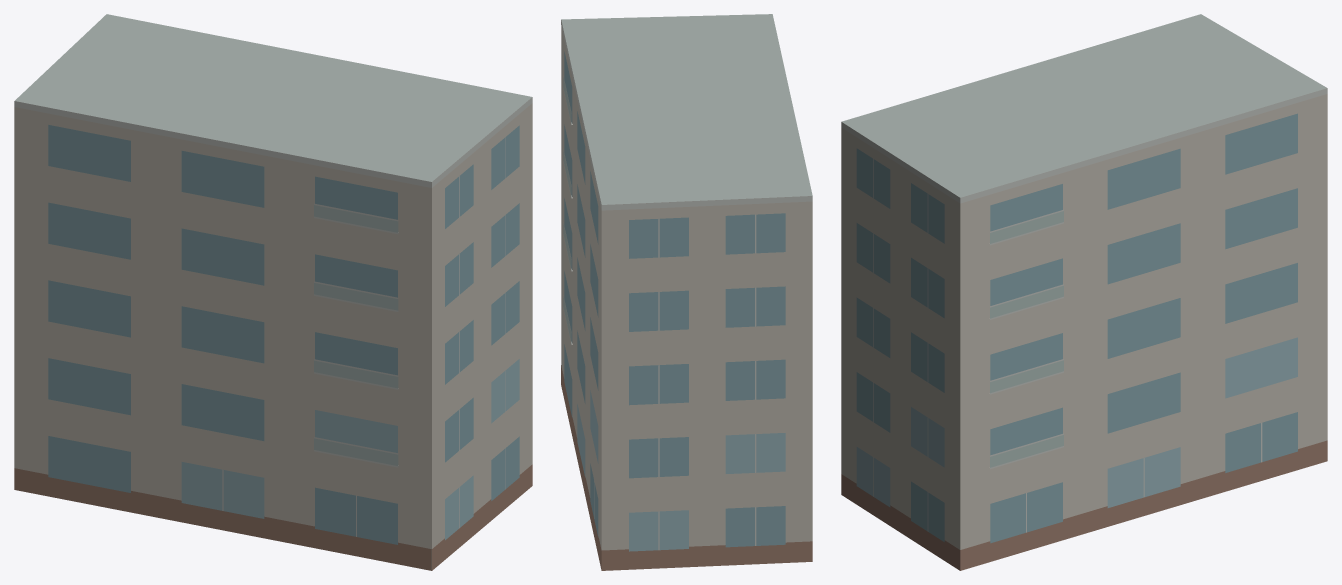
File: survey-upis-32869644.glb
3 renders of one model, left to right at view 1: azimuth 30°, elevation 25°; view 2: azimuth 150°, elevation 25°; view 3: azimuth 270°, elevation 25°, orthographic. The views are drawn at different scales.
Parts seen in each view (by area): view 1: survey-upis-32869644.tmp; view 2: survey-upis-32869644.tmp; view 3: survey-upis-32869644.tmp.
Boxes of the visible parts, left/top/right/bottom form: survey-upis-32869644.tmp: left=14, top=14, right=532, bottom=570; survey-upis-32869644.tmp: left=561, top=14, right=812, bottom=570; survey-upis-32869644.tmp: left=841, top=14, right=1327, bottom=570.
Size of the model in its own units: 16.81 by 15.9 by 18.79.
